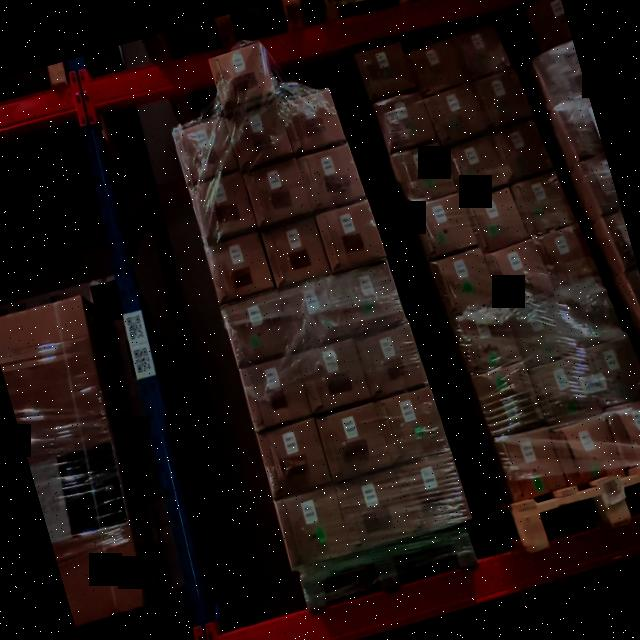box: (274, 484, 352, 568), (256, 417, 332, 500), (394, 451, 470, 534), (334, 470, 411, 550), (316, 402, 390, 481), (374, 386, 448, 464), (240, 355, 312, 430), (297, 339, 370, 412), (221, 290, 293, 363), (356, 322, 425, 398), (336, 260, 404, 335), (278, 275, 348, 347), (316, 198, 384, 272), (497, 426, 563, 501), (204, 231, 274, 301), (475, 362, 540, 436), (553, 416, 621, 486), (189, 172, 256, 242), (225, 99, 291, 167), (510, 296, 572, 368), (262, 217, 328, 284), (298, 144, 363, 212), (244, 158, 309, 225), (173, 118, 238, 183), (208, 43, 274, 107), (454, 306, 518, 372), (532, 354, 594, 422), (434, 247, 495, 314), (488, 240, 548, 308), (279, 89, 343, 151), (562, 278, 618, 348), (414, 193, 474, 258), (585, 338, 640, 408), (395, 141, 453, 204), (538, 224, 594, 288), (448, 135, 506, 196), (516, 172, 571, 236), (468, 187, 522, 252), (428, 82, 485, 142), (356, 40, 412, 100), (377, 90, 432, 151), (494, 120, 548, 180), (408, 38, 462, 96), (475, 69, 528, 127), (454, 23, 506, 80), (607, 398, 640, 469)
